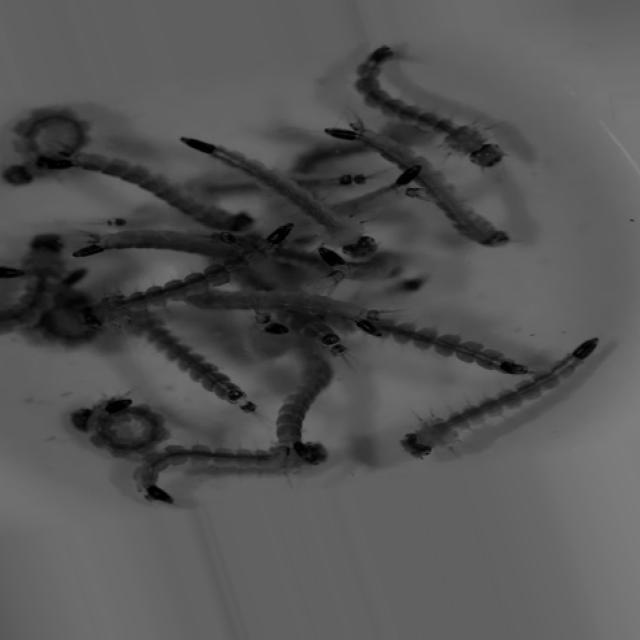larvas: (395, 329, 611, 475), (177, 126, 380, 262), (339, 110, 518, 262), (338, 38, 521, 177), (79, 220, 298, 333), (74, 144, 247, 239), (124, 311, 264, 423), (135, 447, 328, 496), (388, 322, 520, 372), (194, 288, 380, 322), (268, 356, 338, 445), (0, 229, 61, 326), (6, 109, 80, 182), (72, 399, 162, 448), (76, 230, 215, 259), (355, 167, 414, 220), (258, 311, 338, 347), (50, 276, 90, 342), (294, 171, 363, 191)
